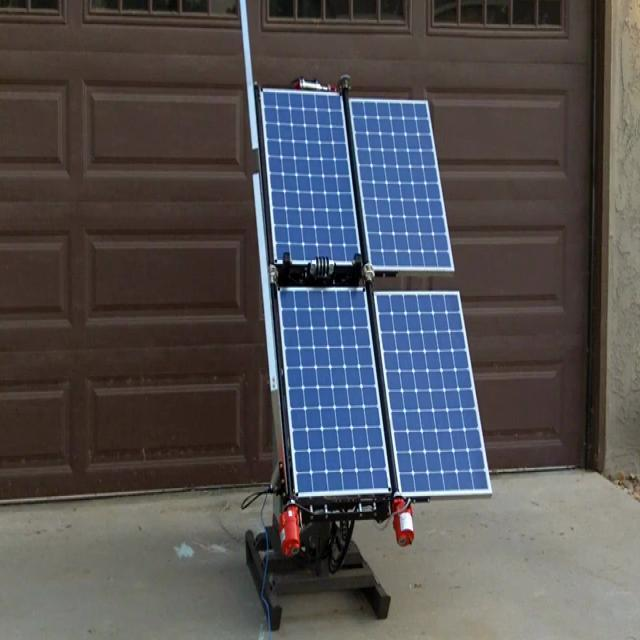Normal Solar Panel: (377, 293, 492, 497), (279, 290, 389, 494), (351, 99, 455, 272), (263, 89, 361, 263)
